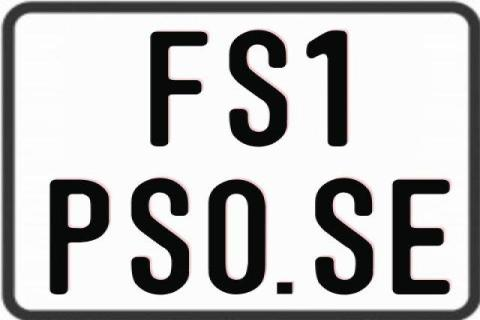0: (208, 179, 270, 297), (305, 28, 348, 145)
E: (390, 179, 452, 297)
F: (147, 29, 210, 145)
P: (50, 179, 111, 296)
S: (128, 178, 192, 298), (314, 177, 378, 295), (227, 28, 287, 145)
